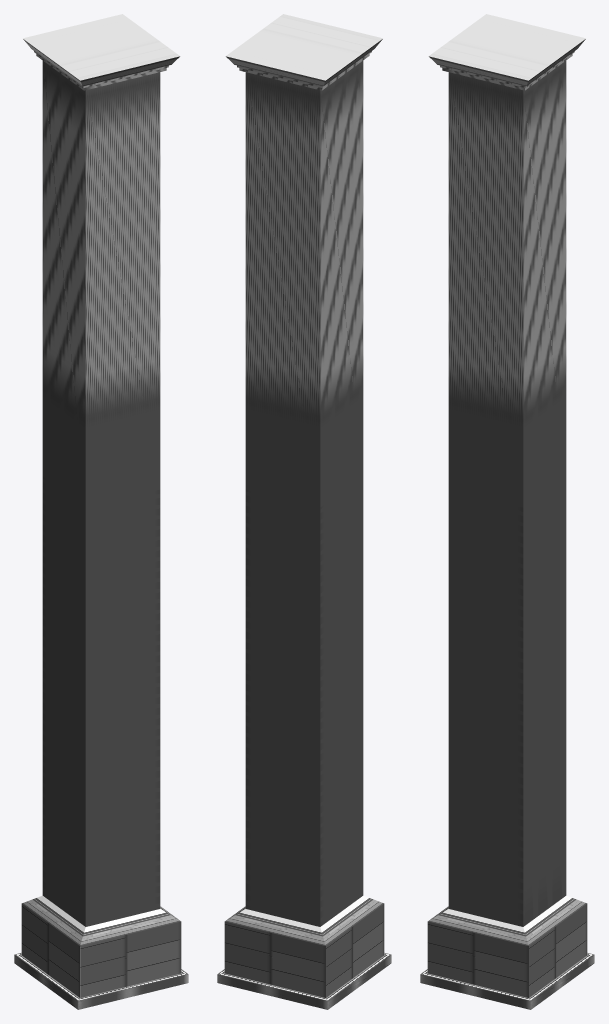
The model's file is column.fbx.
The picture shows the model from 3 angles, left to right: view 1: azimuth 30°, elevation 25°; view 2: azimuth 150°, elevation 25°; view 3: azimuth 330°, elevation 25°; orthographic projection.
Visible parts, largest first — view 1: column_1; view 2: column_1; view 3: column_1.
Part boxes in pixels (left/top/right/bottom): column_1: left=14, top=14, right=188, bottom=1009; column_1: left=217, top=14, right=391, bottom=1009; column_1: left=420, top=14, right=594, bottom=1009.
Size of the model in its own units: 218 by 1750 by 218.
